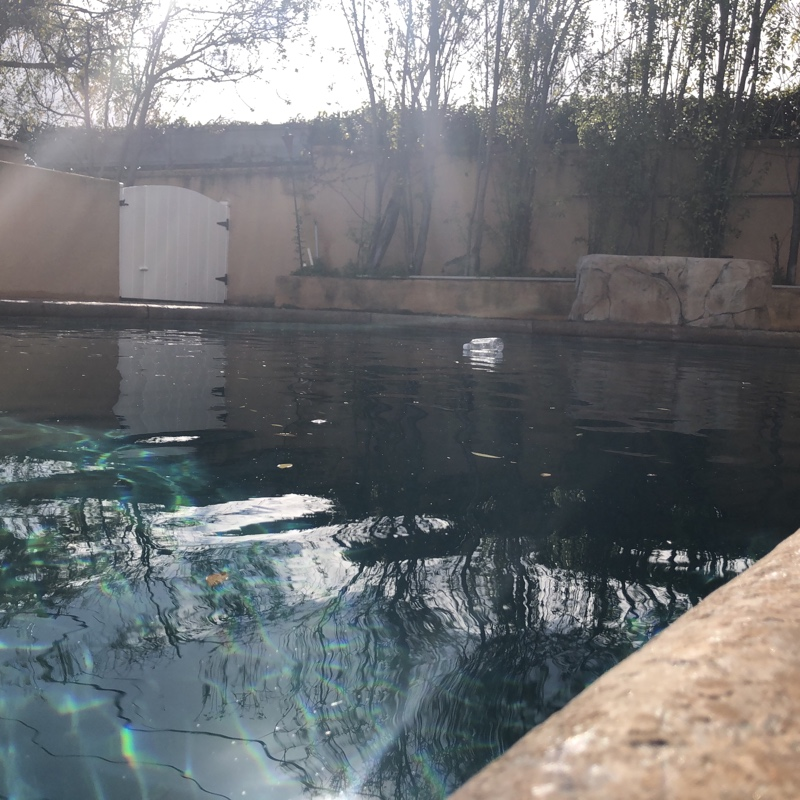Plastic Bottle: (461, 335, 506, 354)
